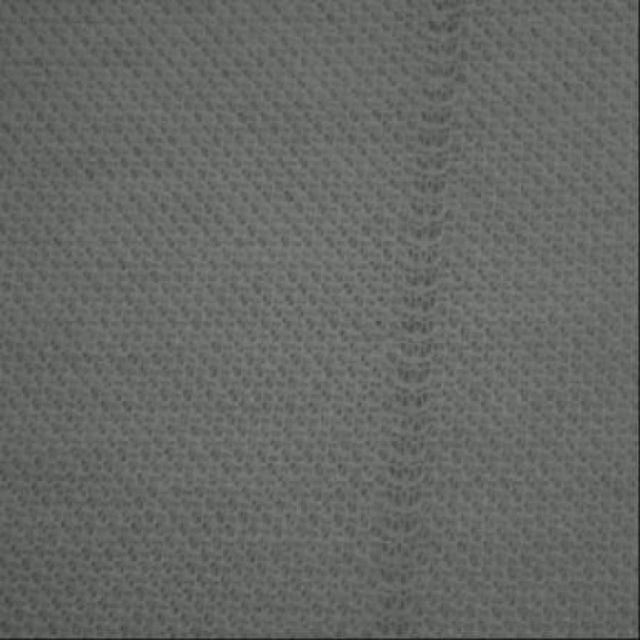Line: (365, 0, 464, 640)
